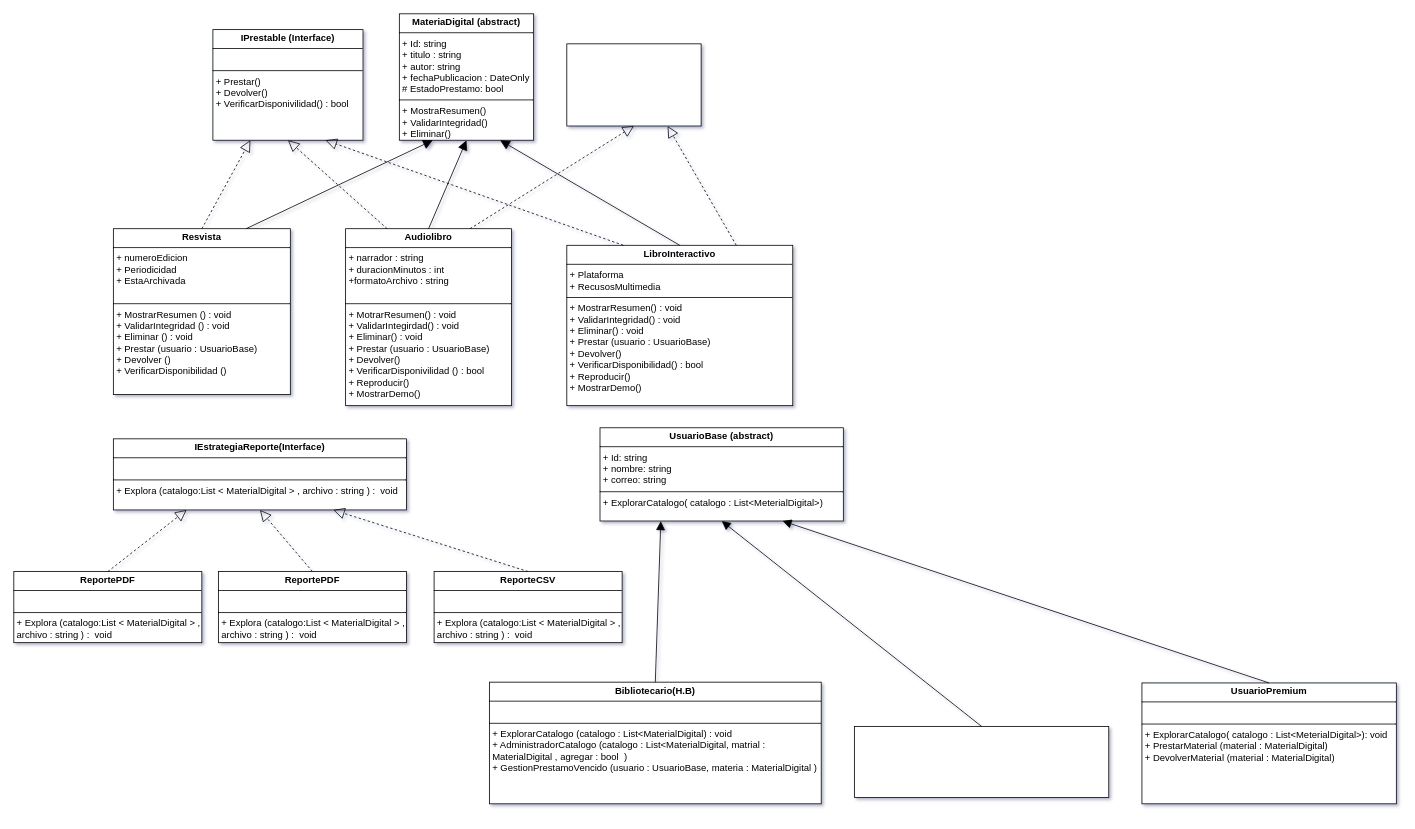
Image size: 1415x829. Some labels were removed from this diagram. The box of each missing label's shape, as (x1, y1, x2, y2) in pixels:
IMultimedia (Interface) + Reproducir() + MostrarDemo(): (566, 43, 701, 126)
VisitanteTemporal + ExplorarCatalogo ( catalogo : List<MeterialDigital> ): void: (854, 726, 1109, 798)
